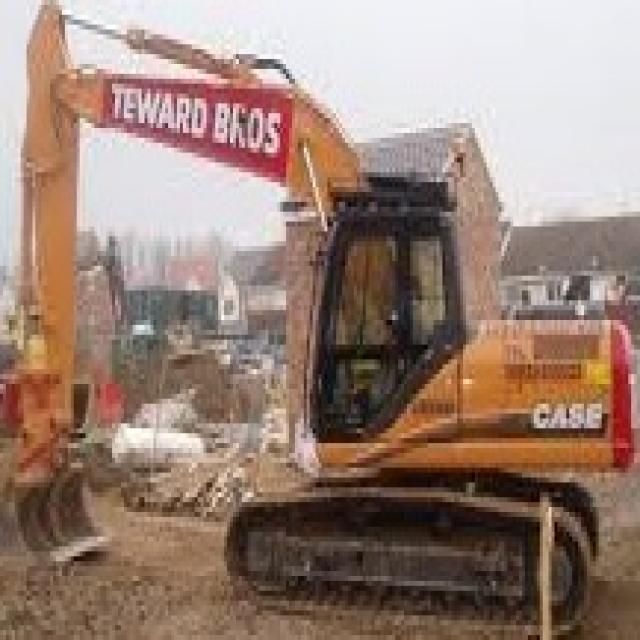excavator: (258, 187, 640, 618)
